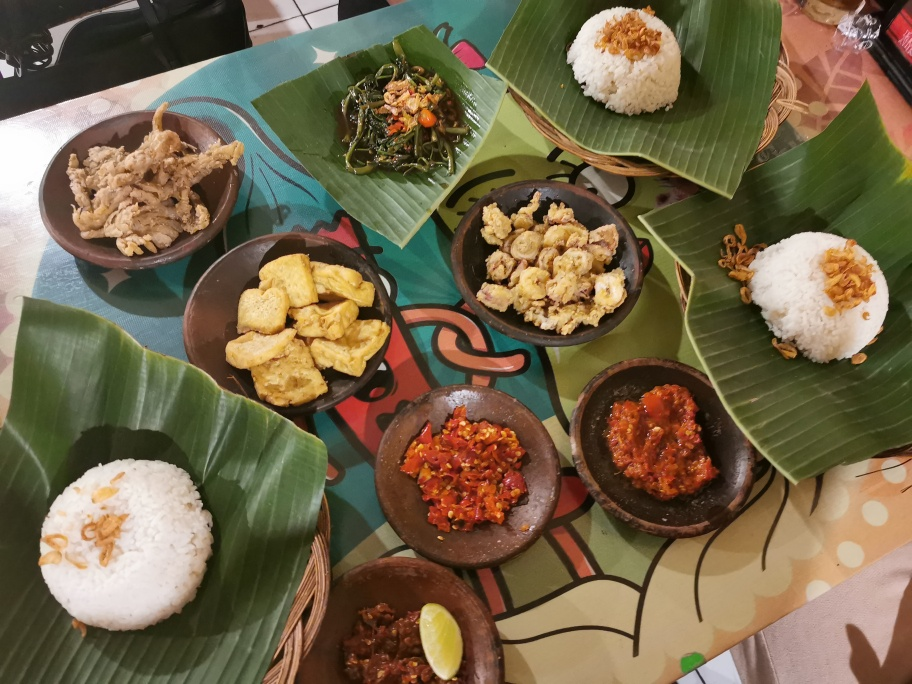nasi putih: (34, 455, 215, 635), (751, 225, 895, 373), (568, 5, 686, 117)
